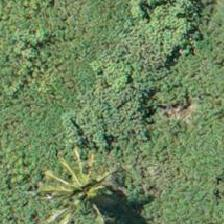coconut_tree: (38, 141, 128, 223)
